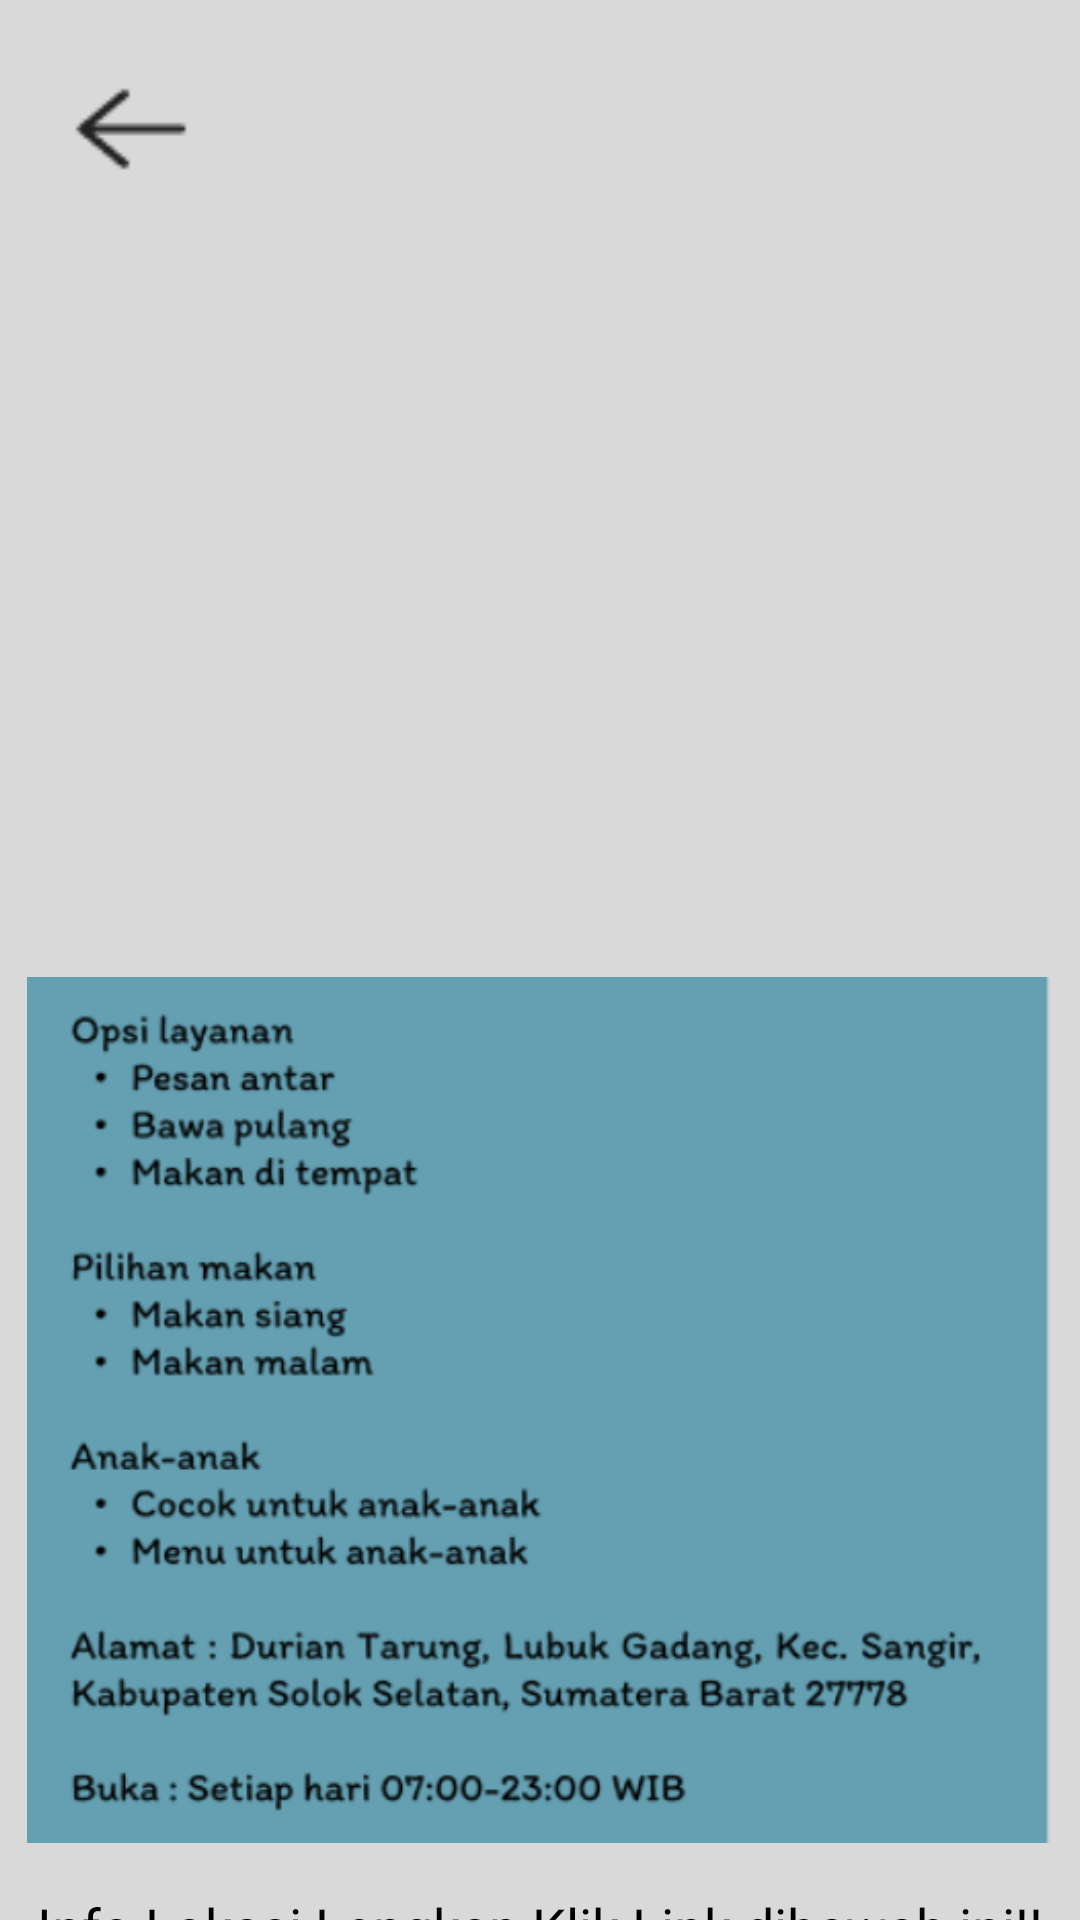

Screen size 1080px×1920px. Icon name, then its center in pixels as [x,y]:
back: [131,129]
